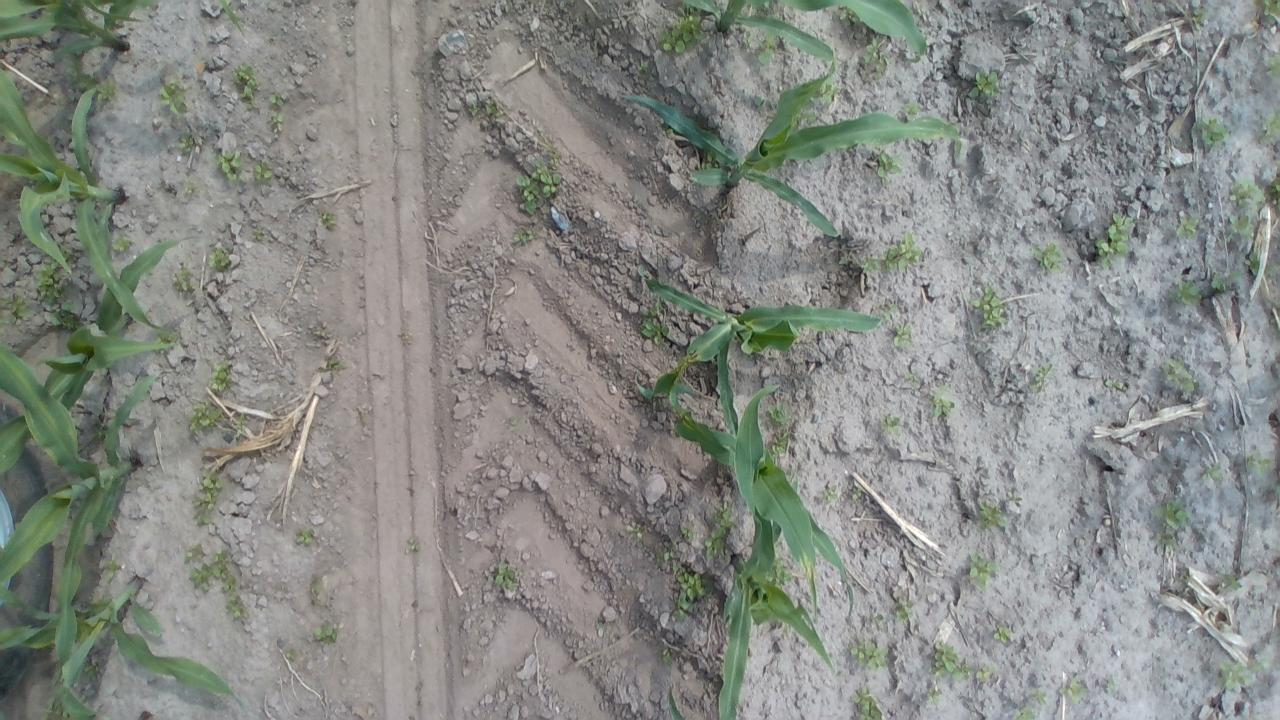Maize: (616, 63, 966, 236), (0, 344, 158, 688), (0, 233, 198, 477), (668, 384, 854, 623), (0, 63, 165, 332), (636, 258, 886, 420), (0, 574, 246, 720), (711, 472, 840, 720), (677, 0, 928, 62), (2, 0, 160, 63), (58, 686, 103, 720), (217, 0, 244, 37), (668, 686, 688, 720), (136, 710, 152, 720)
Weeds: (926, 641, 974, 702), (513, 160, 562, 214), (1095, 213, 1136, 270), (38, 264, 74, 328), (188, 552, 239, 597), (1217, 652, 1270, 692), (671, 568, 708, 623), (1154, 496, 1189, 554), (68, 63, 117, 102), (877, 230, 921, 272), (656, 13, 701, 54), (193, 468, 224, 526), (797, 82, 838, 122), (970, 284, 1006, 328), (1229, 177, 1280, 207), (740, 26, 778, 66), (1161, 358, 1197, 394), (846, 640, 886, 670), (188, 402, 224, 435), (641, 307, 672, 345), (968, 552, 998, 589), (232, 62, 258, 104), (1014, 688, 1048, 720), (968, 68, 1002, 100), (160, 79, 190, 115), (853, 686, 884, 720), (1244, 250, 1280, 279), (876, 148, 904, 185), (703, 522, 730, 560), (0, 296, 32, 328), (1031, 240, 1063, 272), (978, 498, 1010, 530), (1198, 115, 1228, 149), (217, 151, 246, 183), (863, 38, 892, 70), (929, 386, 954, 419), (1170, 280, 1199, 308), (492, 562, 518, 592), (838, 254, 880, 272), (208, 363, 234, 392), (311, 622, 340, 648), (1258, 109, 1280, 142), (1208, 272, 1244, 292), (1226, 214, 1256, 238), (174, 265, 197, 296), (1174, 214, 1201, 240), (207, 246, 234, 272), (1246, 450, 1274, 475), (768, 560, 792, 588), (224, 594, 248, 620), (714, 502, 738, 528), (892, 600, 917, 624), (771, 431, 792, 459), (1032, 364, 1053, 391), (49, 245, 77, 265), (765, 403, 790, 425), (1218, 571, 1243, 592), (80, 656, 102, 679), (1063, 677, 1085, 700), (1259, 0, 1280, 24), (252, 158, 272, 183), (1190, 6, 1210, 30), (892, 322, 912, 346), (232, 412, 250, 438), (879, 413, 900, 435), (624, 521, 646, 542), (838, 7, 862, 26), (42, 698, 64, 718), (702, 152, 724, 171), (992, 623, 1014, 642), (156, 332, 178, 351), (656, 545, 678, 564), (112, 234, 134, 253), (104, 554, 120, 580), (1202, 465, 1224, 483), (323, 352, 343, 371), (1102, 675, 1120, 696), (1265, 55, 1280, 80), (514, 227, 536, 244), (180, 180, 203, 196), (179, 132, 197, 152), (251, 226, 272, 243), (901, 370, 920, 388), (267, 91, 286, 108), (294, 528, 314, 544), (976, 665, 996, 681), (270, 112, 286, 131), (869, 612, 888, 628), (482, 99, 499, 116), (594, 616, 616, 629), (321, 212, 336, 231), (905, 102, 923, 117), (1105, 378, 1124, 392), (878, 302, 898, 315), (640, 58, 656, 74), (820, 486, 836, 502), (678, 524, 694, 540), (406, 536, 420, 554), (660, 121, 674, 136), (660, 649, 674, 664), (754, 94, 768, 108), (852, 488, 864, 500), (1274, 486, 1280, 498)
